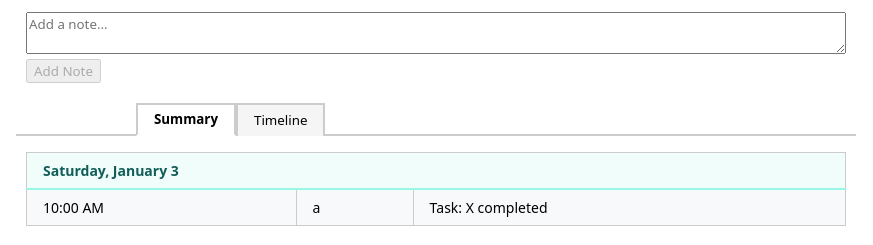
it: JobHistorySection › renders a short field diff inline without a popover
The image size is (873, 245).
Click the button "Timeline" at (281, 119), box x1=236 y1=103 x2=326 y2=136
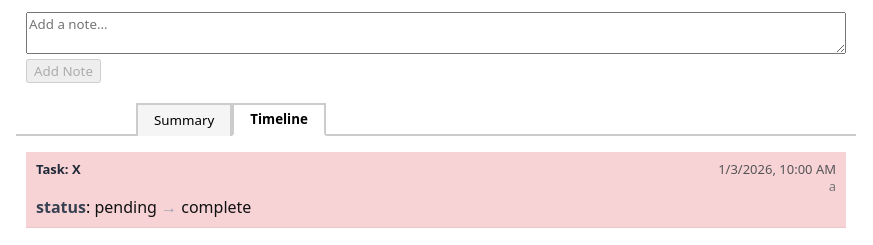
Check: the text "complete" is shown, box x1=181 y1=196 x2=251 y2=218
Check: the text "pending" is shown, box x1=94 y1=196 x2=157 y2=218
